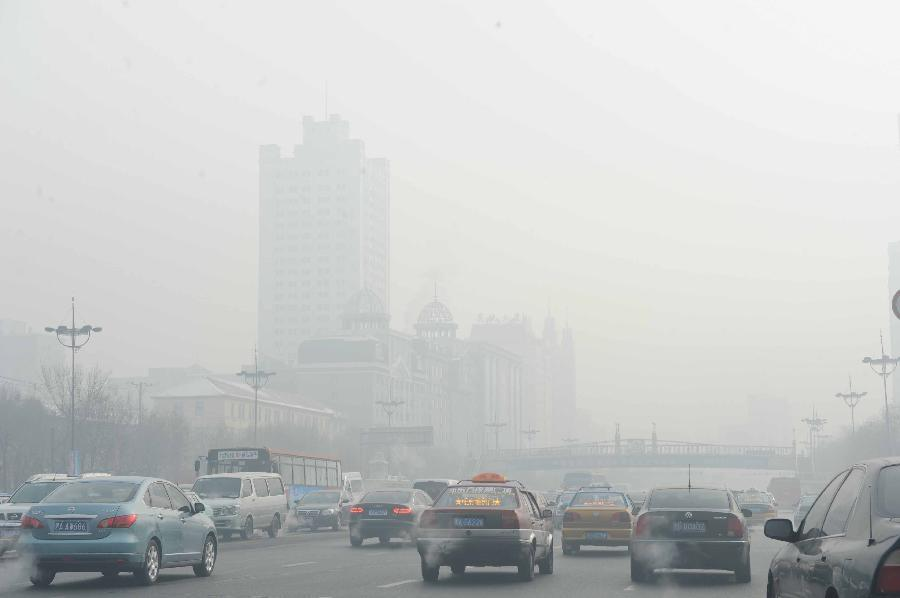bus: (193, 445, 343, 531), (320, 470, 368, 526), (564, 471, 611, 500)
car: (16, 475, 218, 584), (763, 458, 899, 598), (415, 471, 553, 581), (631, 463, 752, 583), (1, 470, 135, 557), (187, 470, 287, 540), (560, 480, 638, 555), (347, 487, 444, 547), (145, 490, 214, 549), (292, 489, 355, 531), (407, 477, 464, 518), (734, 487, 779, 529), (554, 489, 598, 530), (791, 491, 827, 528), (766, 476, 802, 510), (759, 490, 780, 512)
